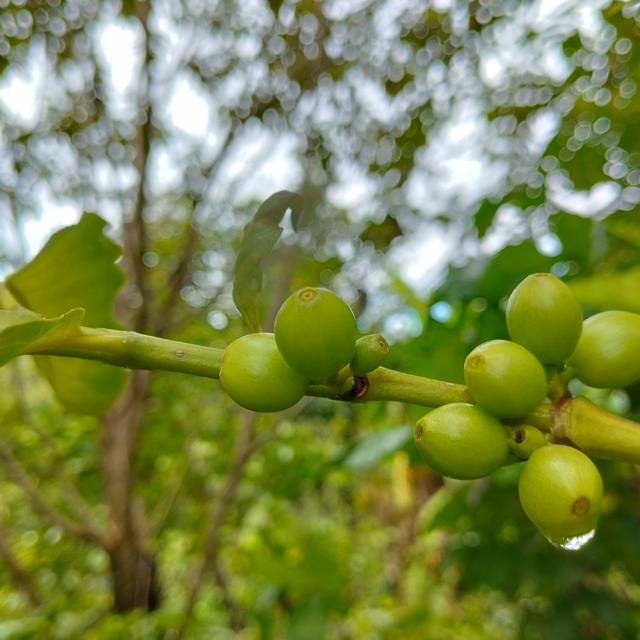green: (519, 445, 604, 547), (274, 287, 357, 380), (414, 403, 510, 481), (219, 333, 308, 413), (507, 273, 584, 365), (464, 340, 549, 419), (566, 311, 640, 388), (350, 335, 389, 377)
